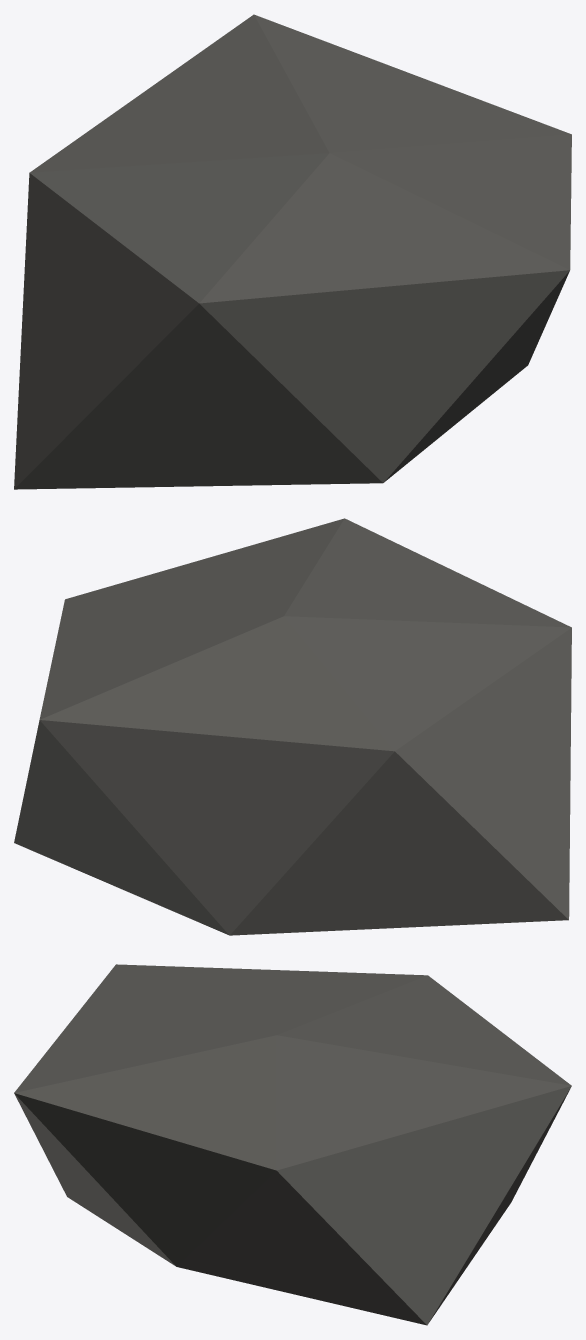
File: boulder.glb
3 renders of one model, top to bottom at view 1: azimuth 30°, elevation 25°; view 2: azimuth 150°, elevation 25°; view 3: azimuth 270°, elevation 25°, orthographic. The views are drawn at different scales.
Parts seen in each view (by area): view 1: boulder; view 2: boulder; view 3: boulder.
Boxes of the visible parts, x1,y1,x2,y2 form: boulder: [14, 14, 571, 489]; boulder: [14, 518, 571, 935]; boulder: [14, 964, 571, 1325].
Bounding box in the file's own units: 1.99 × 0.917 × 2.02.
Materials: 1 (1 with a texture image).
